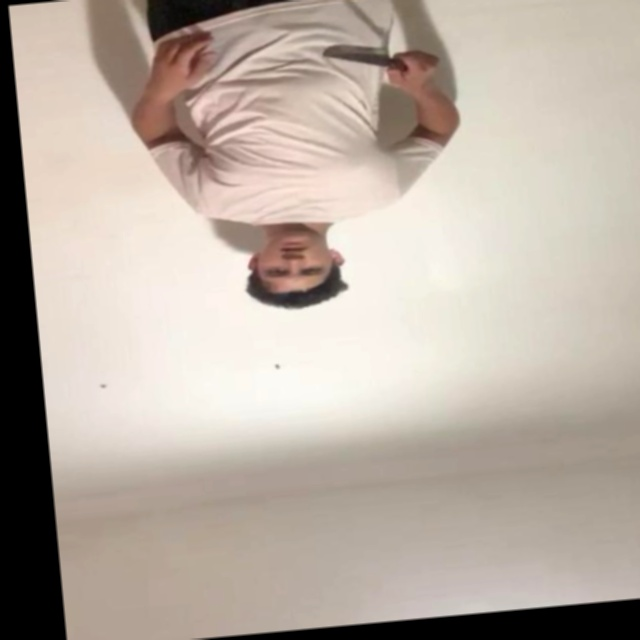Sharp-Object: (318, 37, 392, 76)
